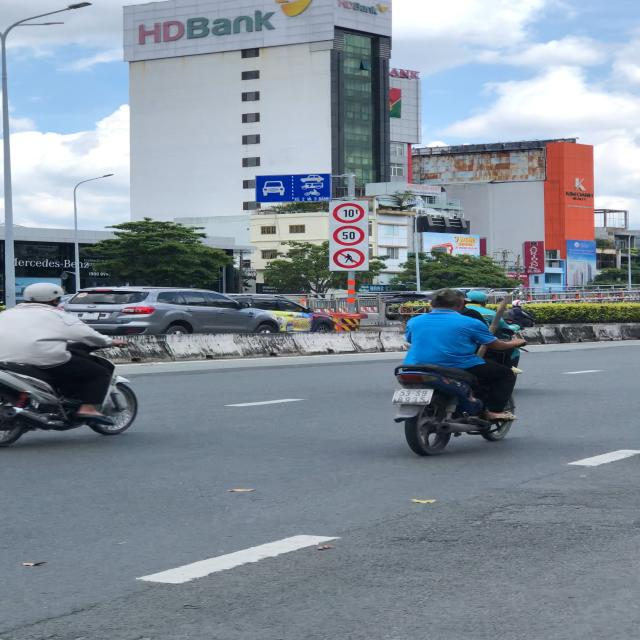Bien bao toc do toi da cho phep: (332, 225, 364, 248)
